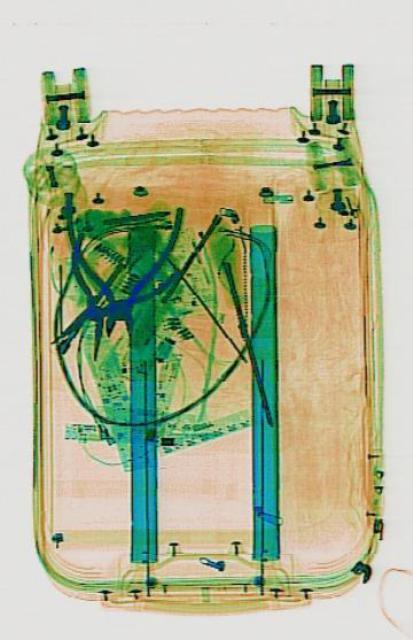Pliers: (48, 214, 177, 388), (63, 188, 183, 334)
